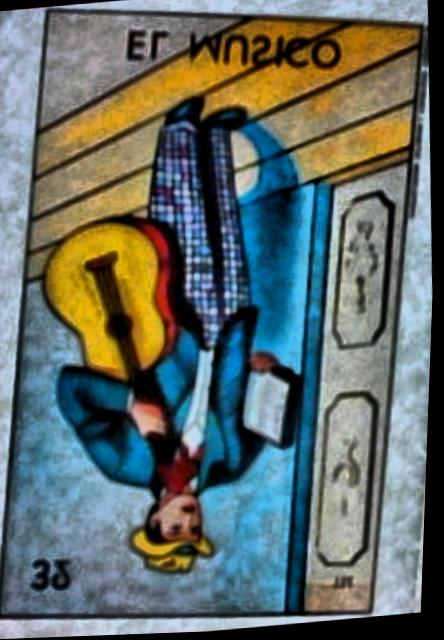El Musico: (6, 15, 423, 616)
